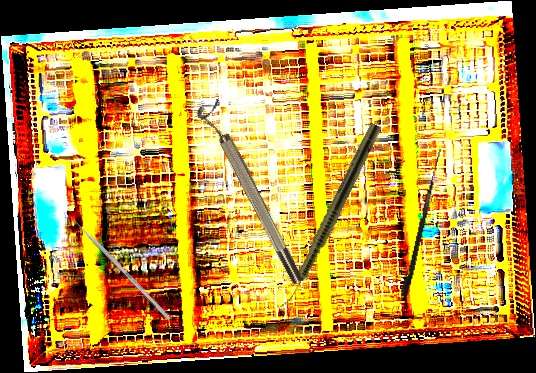Fixation Ring: (194, 98, 307, 290)
Handpiece: (278, 121, 383, 313)
Hook Surgical: (400, 147, 442, 298)
Pusher: (64, 210, 172, 321)
